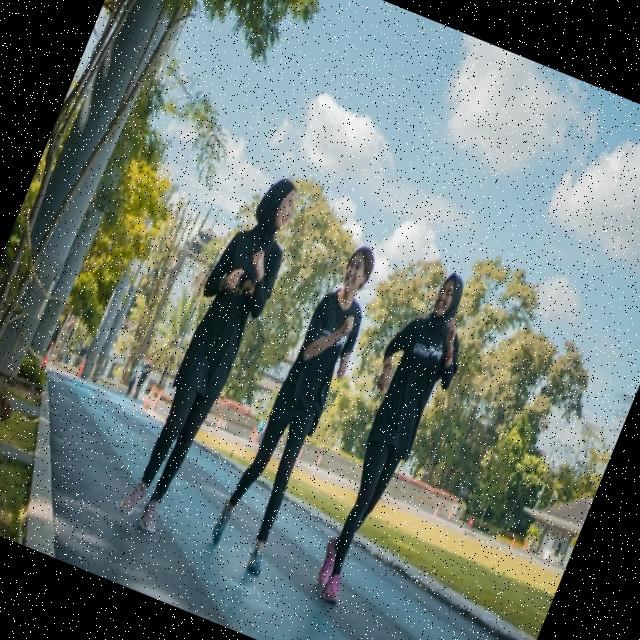Person: (110, 165, 312, 543), (288, 258, 492, 618), (204, 233, 392, 577)
